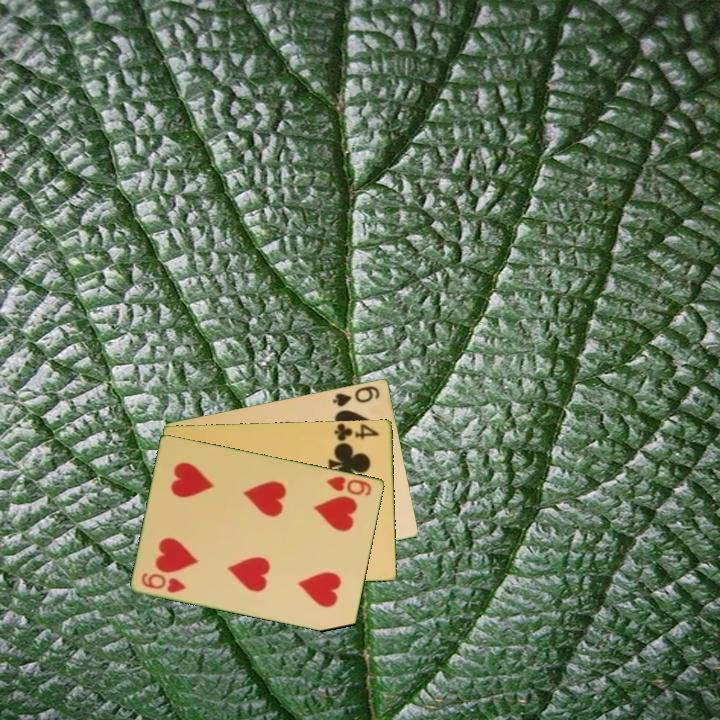4c: (331, 420, 382, 444)
6h: (323, 472, 375, 499), (138, 569, 189, 596)
6s: (329, 382, 383, 409)
